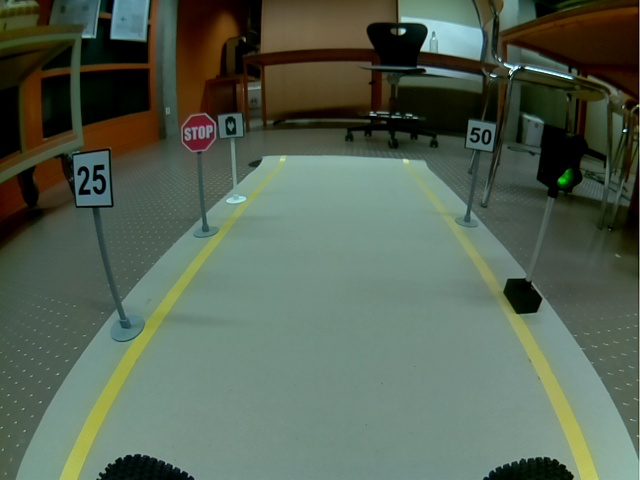battery: (217, 112, 244, 139)
speed25: (72, 148, 114, 208)
speed50: (465, 118, 497, 153)
stop: (181, 113, 216, 152)
trafficLightGreen: (537, 124, 588, 193)
